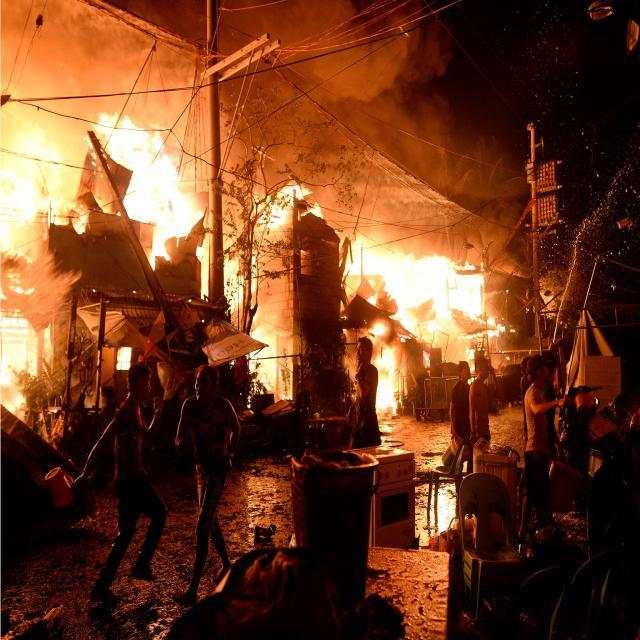Fire: (0, 123, 64, 459), (364, 245, 484, 348), (132, 134, 202, 260), (274, 180, 327, 242)
Smoke: (217, 0, 582, 214)
